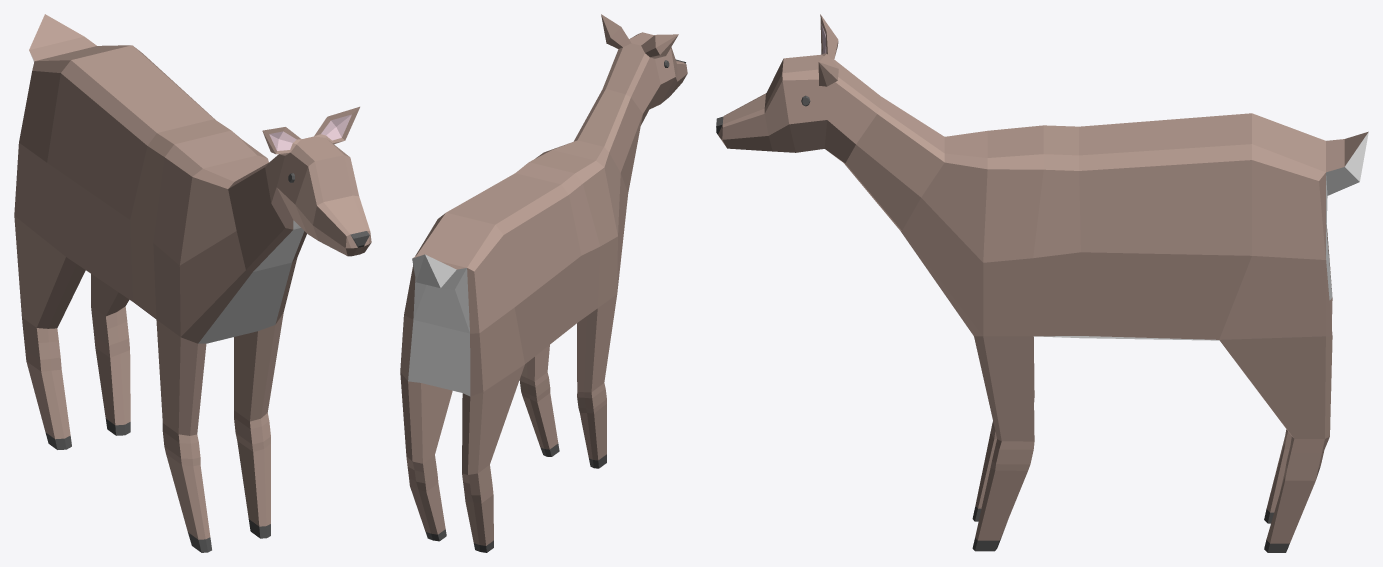
The model's file is deer.glb.
3 renders of one model, left to right at view 1: azimuth 30°, elevation 25°; view 2: azimuth 150°, elevation 25°; view 3: azimuth 270°, elevation 25°, orthographic. The views are drawn at different scales.
Visible parts, largest first — view 1: node-0; view 2: node-0; view 3: node-0.
Boxes of the visible parts, left/top/right/bottom form: node-0: left=14, top=14, right=371, bottom=552; node-0: left=400, top=14, right=687, bottom=552; node-0: left=716, top=14, right=1368, bottom=552.
Size of the model in its own units: 2.39 by 10.08 by 12.
